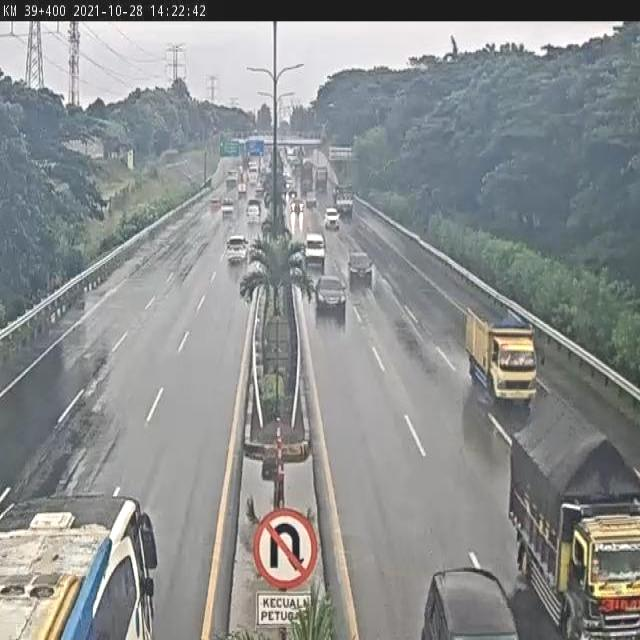Car: (417, 562, 512, 640), (342, 242, 378, 286), (318, 271, 344, 314), (224, 224, 248, 270), (244, 194, 262, 229), (222, 193, 236, 229), (325, 202, 340, 233), (208, 194, 221, 221), (291, 194, 304, 217)
Truck: (506, 403, 640, 640), (458, 290, 545, 416)
